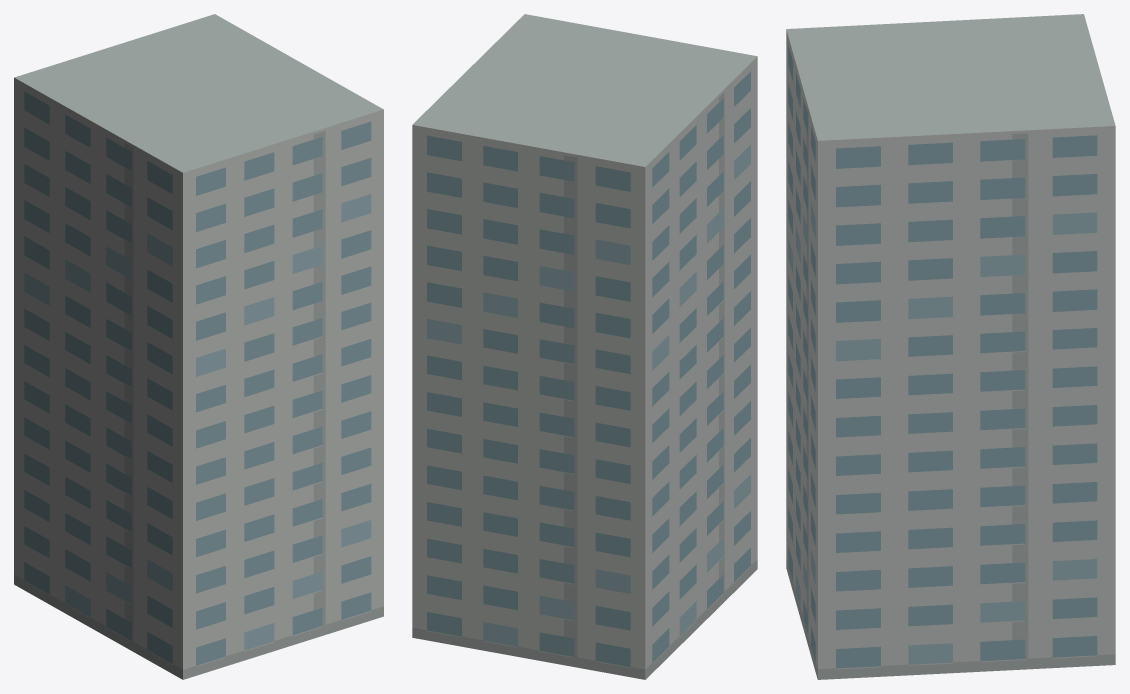
File: residential-00ed4167-b7d5-4f98-be2b-fc4df94e7815.glb
3 views of the same model, side by side, from view 1: azimuth 30°, elevation 25°; view 2: azimuth 150°, elevation 25°; view 3: azimuth 270°, elevation 25° (orthographic). The views are drawn at different scales.
Parts seen in each view (by area): view 1: residential-00ed4167-b7d5-4f98-be2b-fc4df94e7815.tmp; view 2: residential-00ed4167-b7d5-4f98-be2b-fc4df94e7815.tmp; view 3: residential-00ed4167-b7d5-4f98-be2b-fc4df94e7815.tmp.
Part boxes in pixels (x1,y1,x2,y2): residential-00ed4167-b7d5-4f98-be2b-fc4df94e7815.tmp: (14,14,383,679); residential-00ed4167-b7d5-4f98-be2b-fc4df94e7815.tmp: (412,14,757,679); residential-00ed4167-b7d5-4f98-be2b-fc4df94e7815.tmp: (786,14,1115,679).
Size of the model in its own units: 22.73 by 45 by 24.93.
